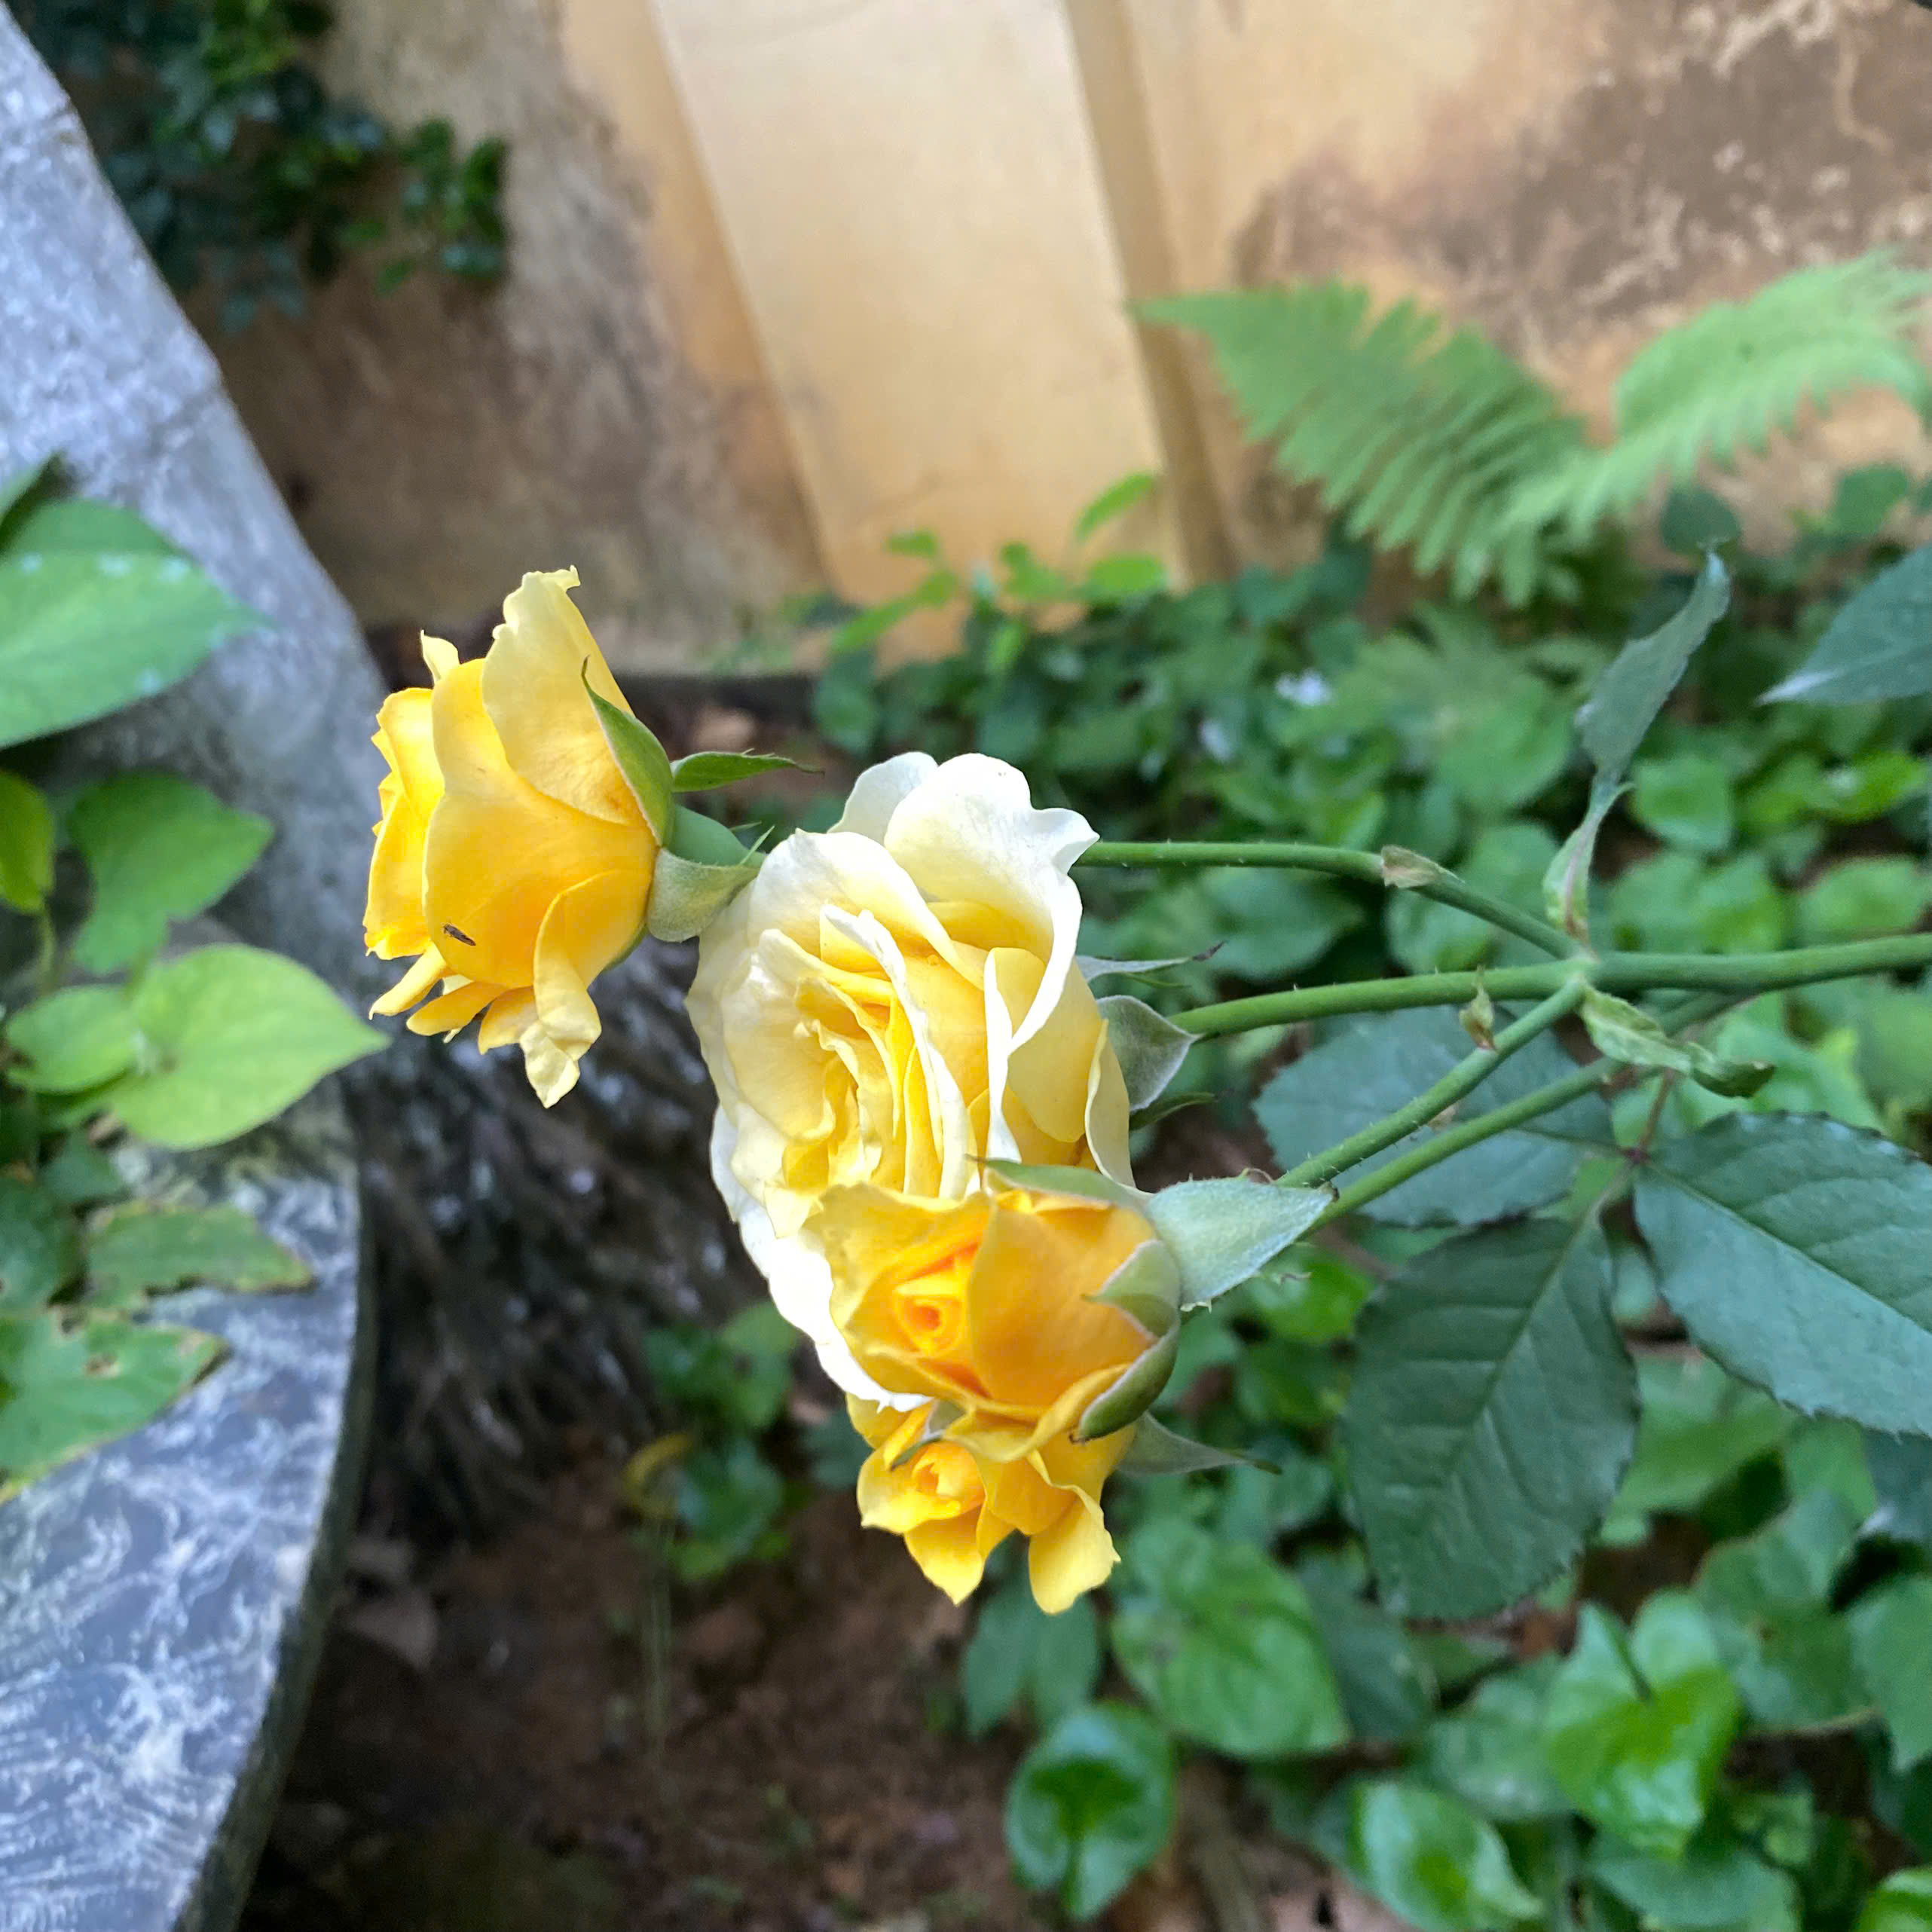hoa_thuoc_duoc: (333, 483, 1932, 1628)
